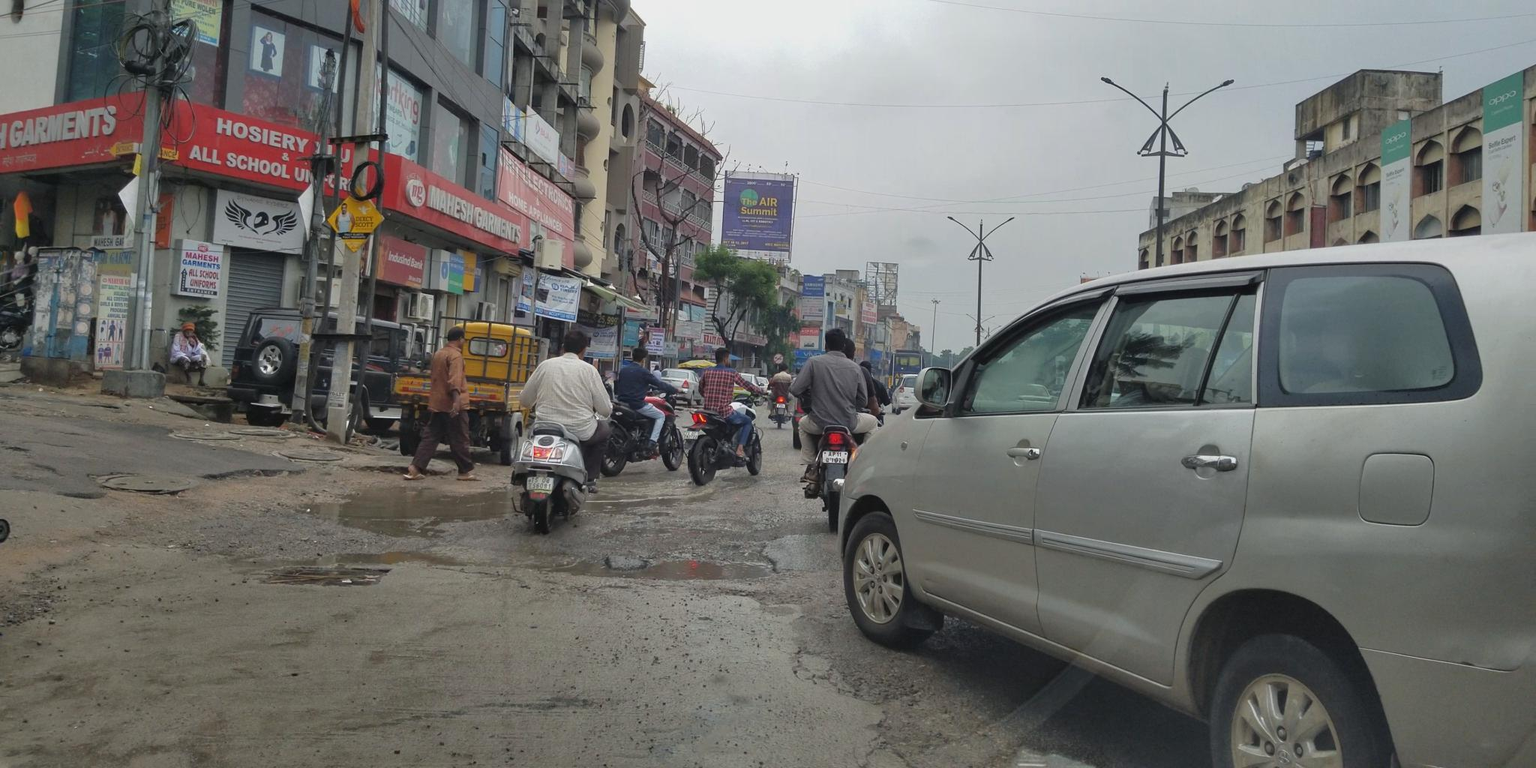streetlight: (1060, 70, 1160, 156), (1158, 67, 1258, 152), (908, 208, 980, 253), (978, 209, 1049, 254)
